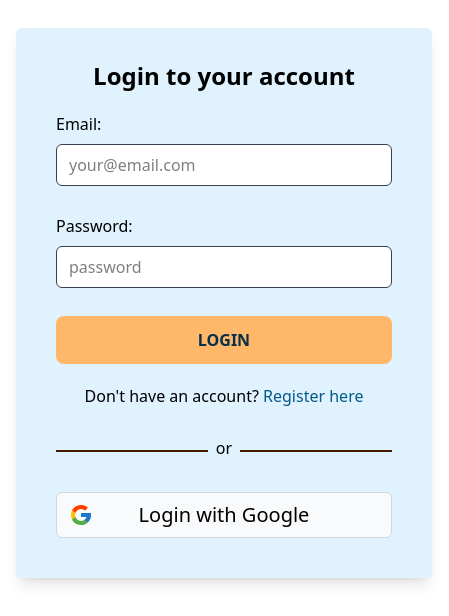
Test case: LoginPage › shows a validation error when submitting empty email
Type "password" into the password field labelled "Password:" at (224, 267), box top-left (56, 246), bottom-right (392, 288)
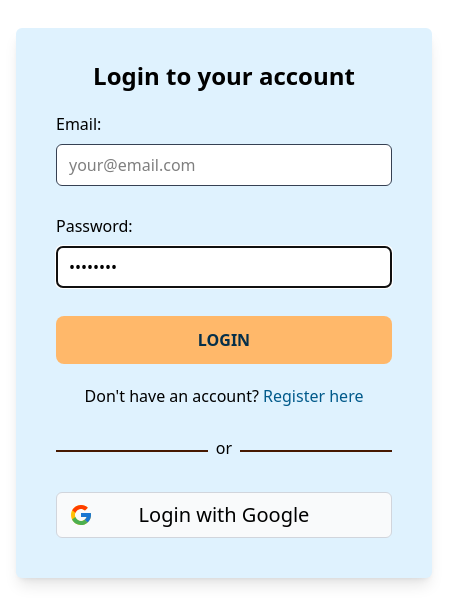
Click the button "LOGIN" at (224, 340), box top-left (56, 316), bottom-right (392, 364)
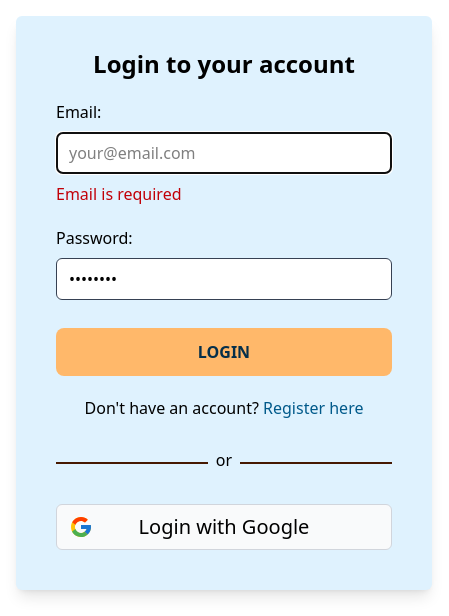
Expected: the text "Email is required" is shown, top-left (56, 183), bottom-right (182, 205)
